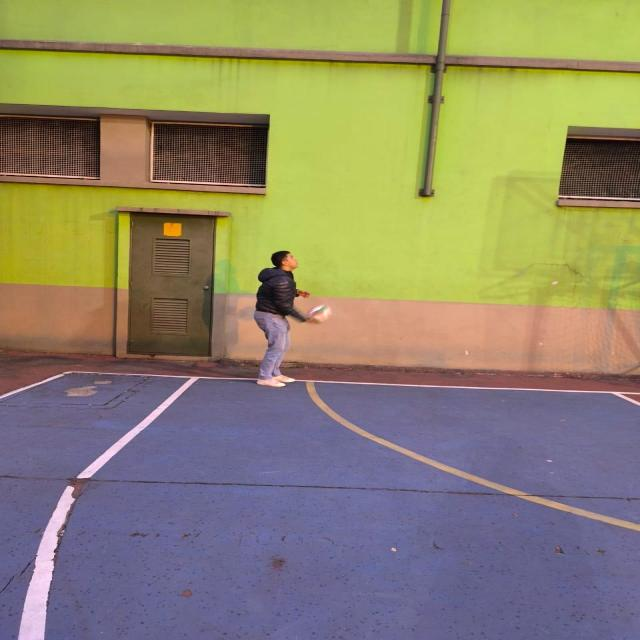volleyball: (308, 304, 333, 322)
